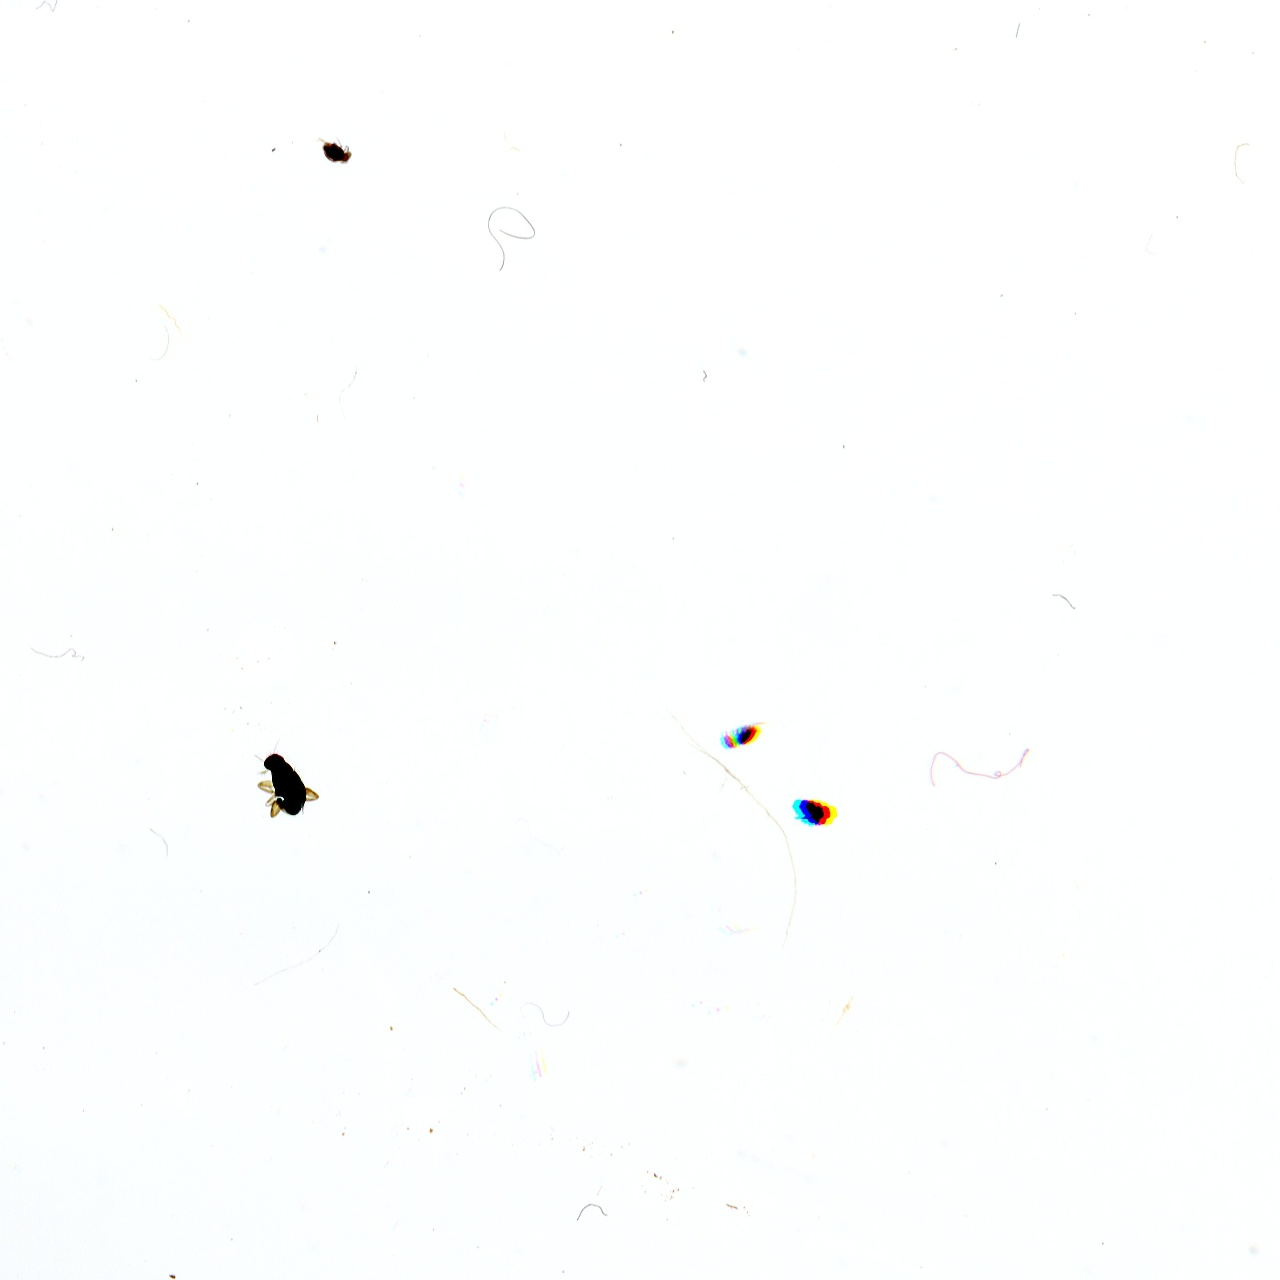arthropod: (248, 734, 325, 824), (719, 715, 769, 753), (313, 135, 355, 166)
